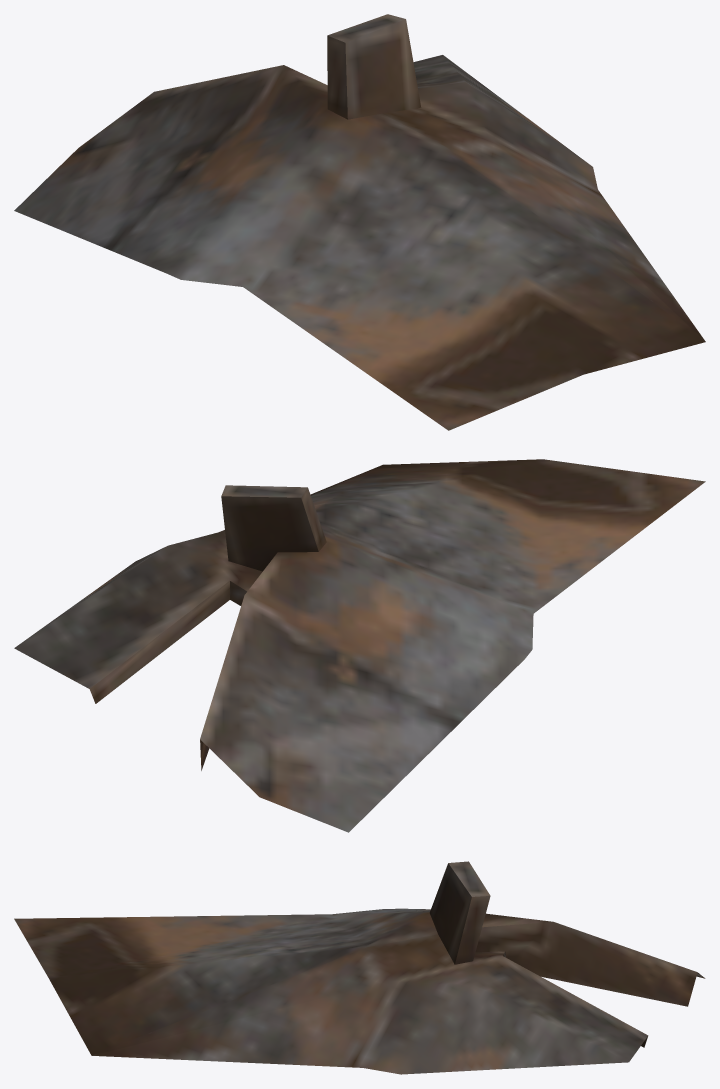
Rendered from plane_wreckage_debris_small_01.dae.
3 views of the same model, one above another, from view 1: azimuth 30°, elevation 25°; view 2: azimuth 150°, elevation 25°; view 3: azimuth 270°, elevation 25° (orthographic). The views are drawn at different scales.
Visible parts, largest first — view 1: pasted__plane_wreckage_wing10; view 2: pasted__plane_wreckage_wing10; view 3: pasted__plane_wreckage_wing10.
Part boxes in pixels (x1,y1,x2,y2): pasted__plane_wreckage_wing10: [14, 14, 705, 430]; pasted__plane_wreckage_wing10: [14, 459, 705, 832]; pasted__plane_wreckage_wing10: [14, 861, 705, 1074].
Size of the model in its own units: 56.92 by 28.95 by 99.19.
